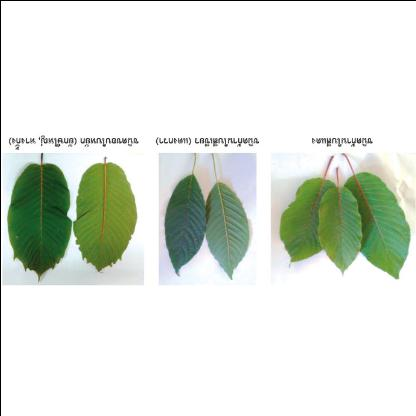kratom: (192, 170, 250, 276)
kratom-red: (297, 165, 370, 277)
